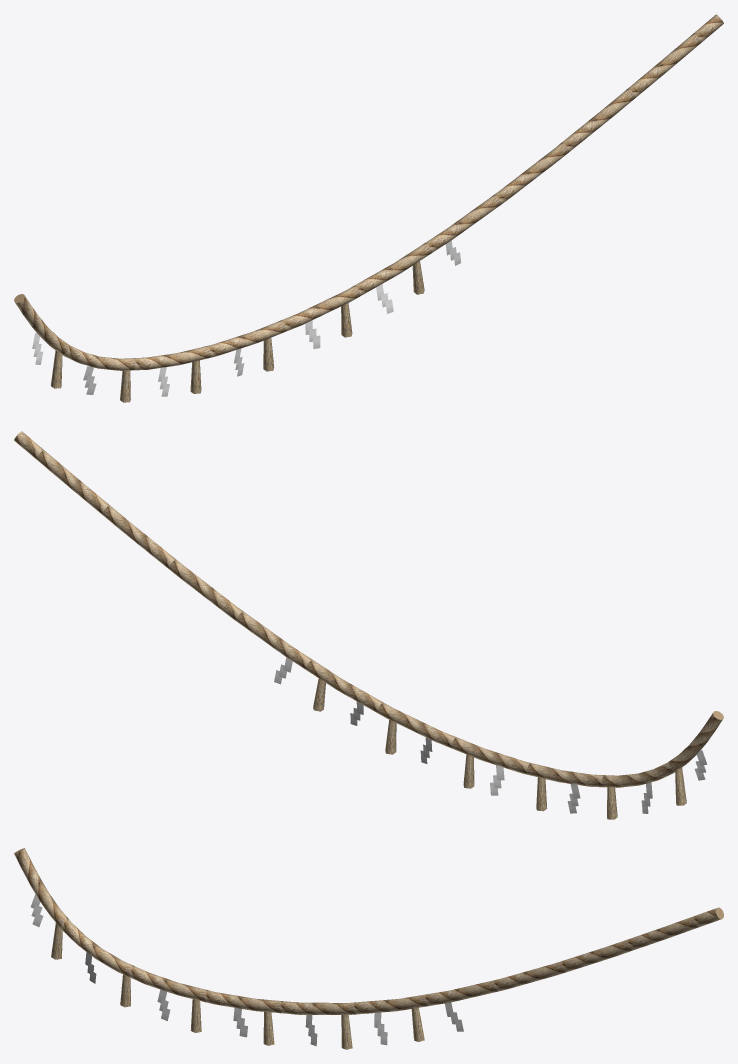
The model's file is sacred_rope.fbx.
3 renders of one model, top to bottom at view 1: azimuth 30°, elevation 25°; view 2: azimuth 150°, elevation 25°; view 3: azimuth 330°, elevation 25°, orthographic.
Visible parts, largest first — view 1: Plane07; view 2: Plane07; view 3: Plane07.
Part boxes in pixels (x1=…): Plane07: x1=14, y1=14, x2=723, y2=402; Plane07: x1=14, y1=431, x2=723, y2=819; Plane07: x1=14, y1=848, x2=723, y2=1049.
Bounding box in the file's own units: 33.08 × 0.5139 × 11.17.
